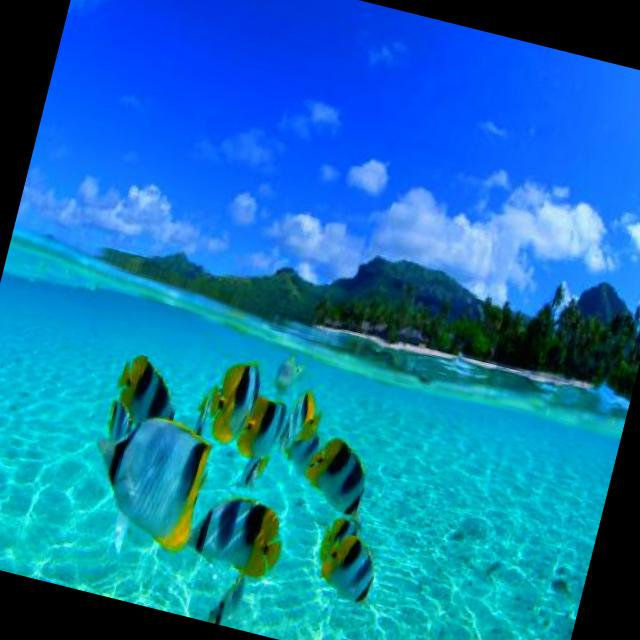ButterflyFish: (74, 406, 216, 554), (186, 486, 292, 584), (194, 350, 262, 448), (308, 435, 379, 522), (110, 351, 190, 426), (316, 534, 385, 605), (230, 392, 289, 469), (284, 414, 326, 476)
